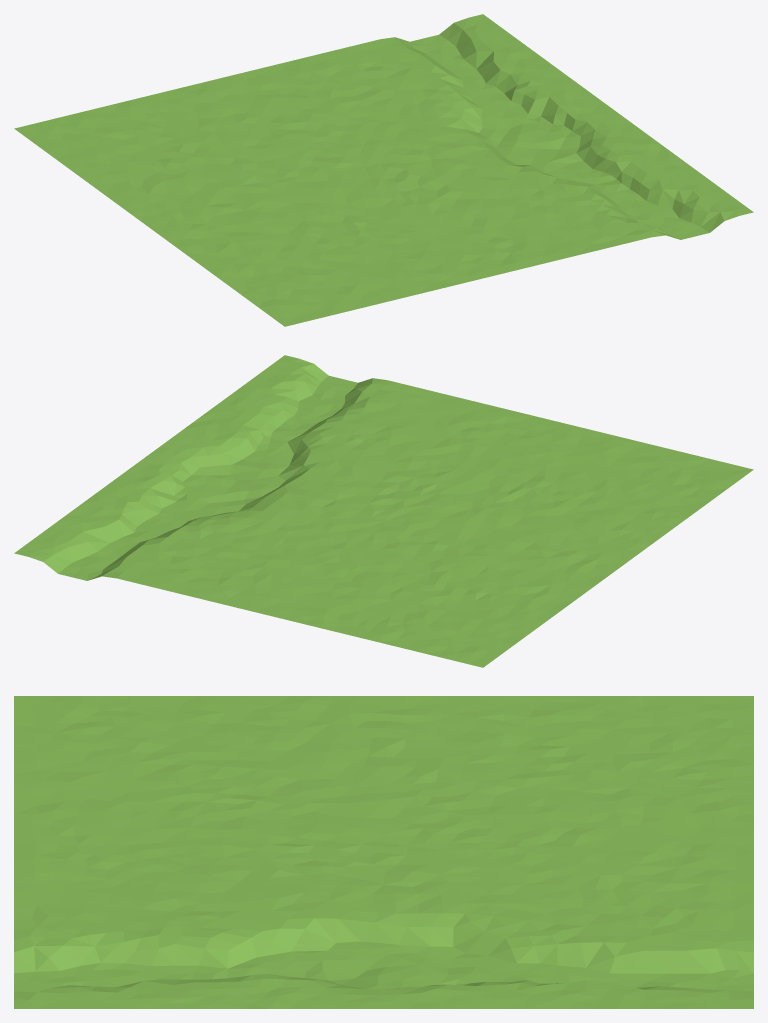
File: MT_River_L_a_02_R_LOD.fbx
The picture shows the model from 3 angles, top to bottom: view 1: azimuth 30°, elevation 25°; view 2: azimuth 150°, elevation 25°; view 3: azimuth 270°, elevation 25°; orthographic projection. The views are drawn at different scales.
Visible parts, largest first — view 1: MT_River_L_a_02_R_LOD0; view 2: MT_River_L_a_02_R_LOD0; view 3: MT_River_L_a_02_R_LOD0.
Part boxes in pixels (x1,y1,x2,y2): MT_River_L_a_02_R_LOD0: (14,14,753,326); MT_River_L_a_02_R_LOD0: (14,355,753,667); MT_River_L_a_02_R_LOD0: (14,696,753,1008).
Size of what is drawn, in the model's own units: 100 by 2.49 by 100.
